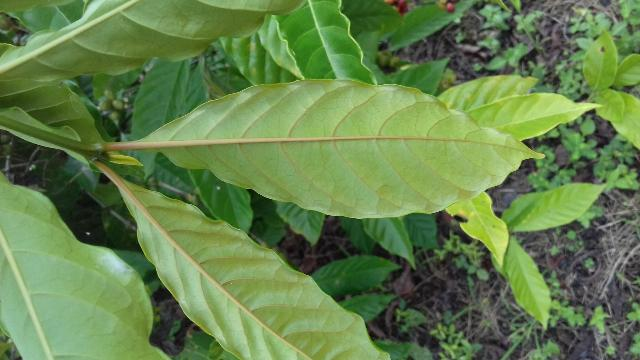healthy: (134, 82, 547, 219)
